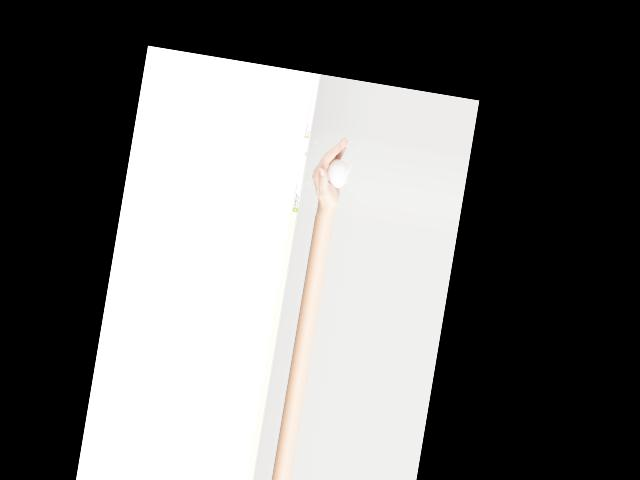egg: (324, 157, 348, 189)
